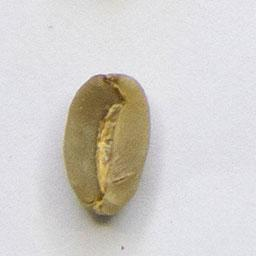longberry: (61, 67, 154, 221)
